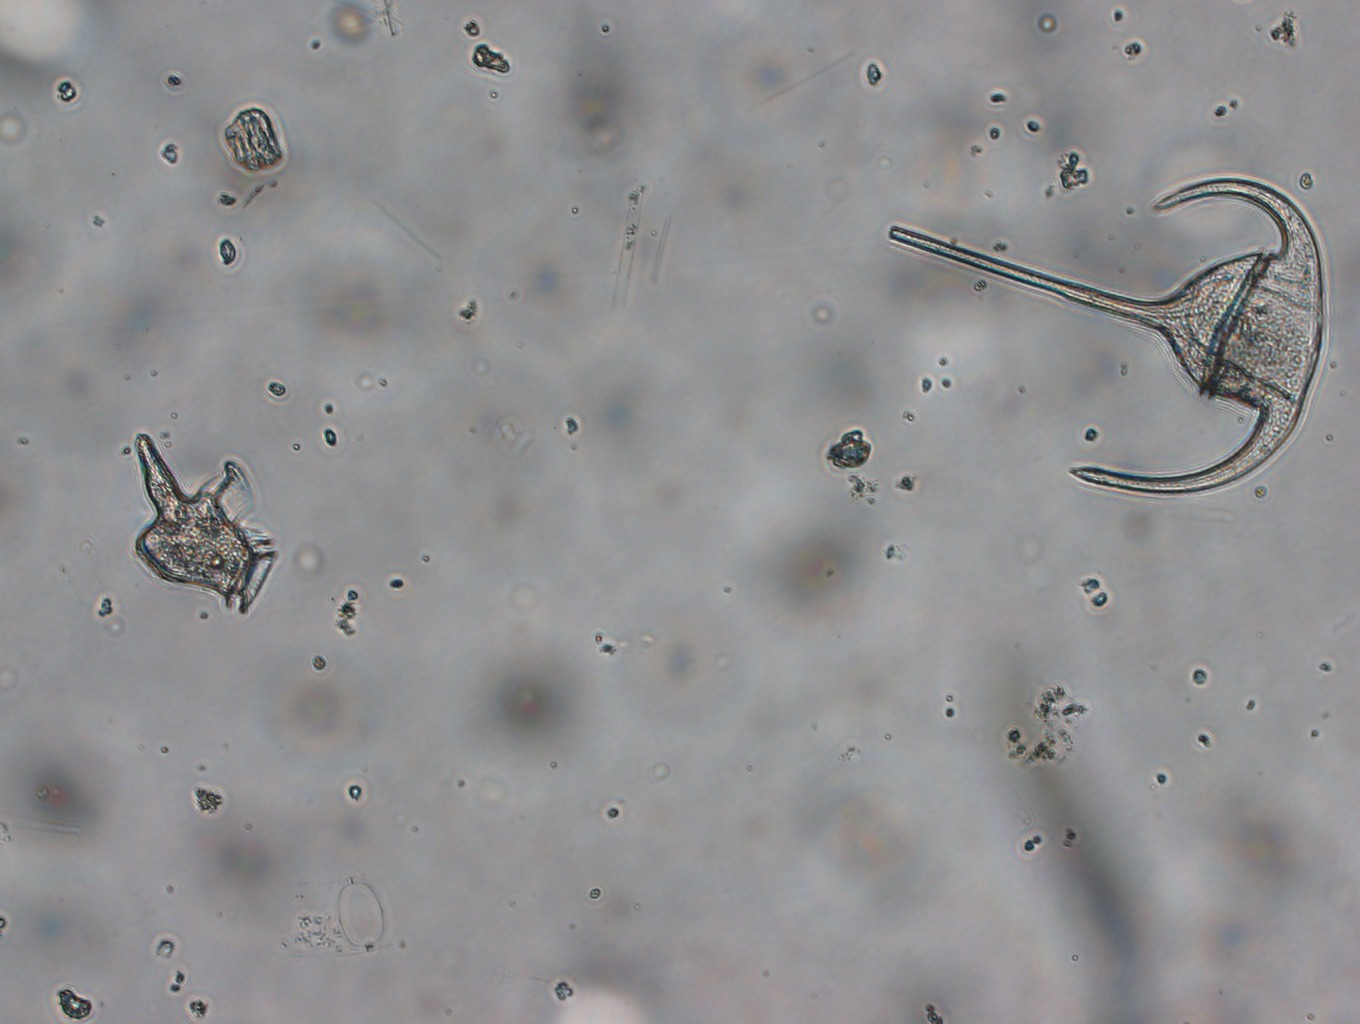ceratium tripos: (881, 159, 1333, 499)
dinophysis caudata: (120, 427, 282, 622)
